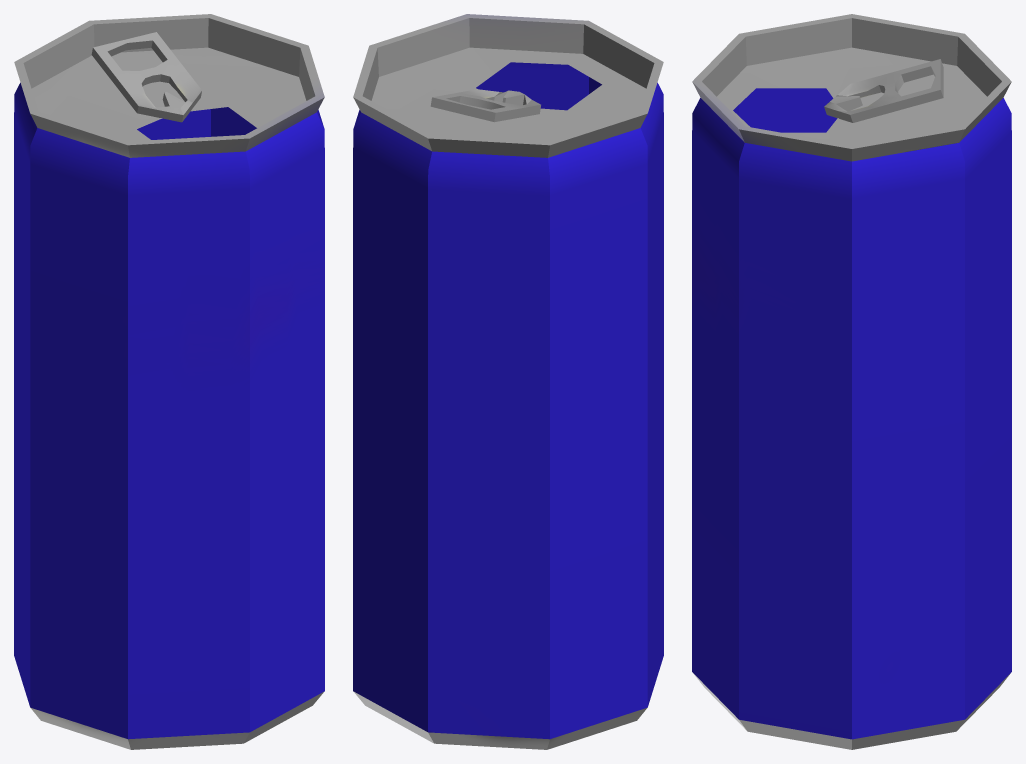
3 views of the same model, side by side, from view 1: azimuth 30°, elevation 25°; view 2: azimuth 150°, elevation 25°; view 3: azimuth 270°, elevation 25° (orthographic).
Visible parts, largest first — view 1: 円柱; view 2: 円柱; view 3: 円柱.
Boxes of the visible parts, x1,y1,x2,y2 form: 円柱: (14, 14, 324, 749); 円柱: (353, 14, 663, 749); 円柱: (692, 14, 1011, 749).
Size of the model in its own units: 7.72 by 16.34 by 7.72.
1 material, 1 textured.
